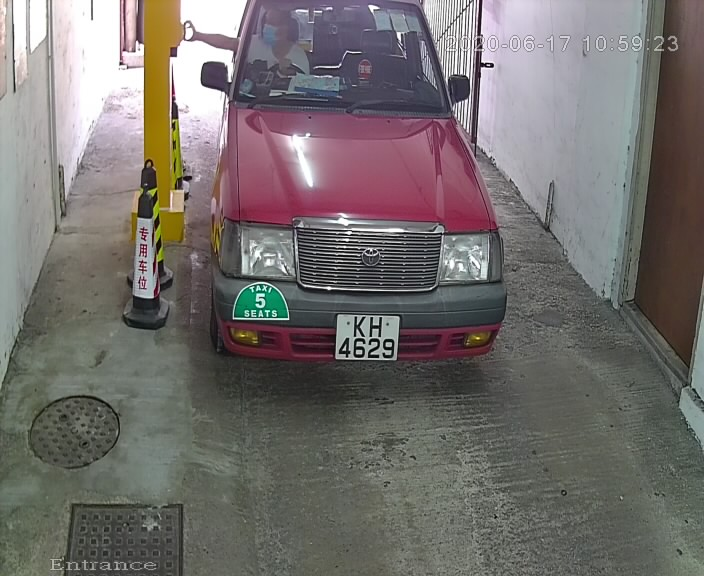taxi: (197, 2, 525, 391)
taxi_mark: (233, 278, 296, 332)
